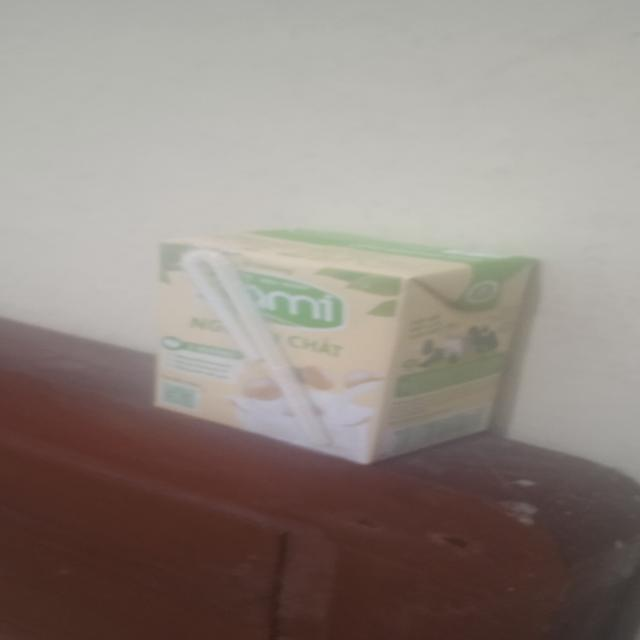Fami: (153, 229, 543, 468)
